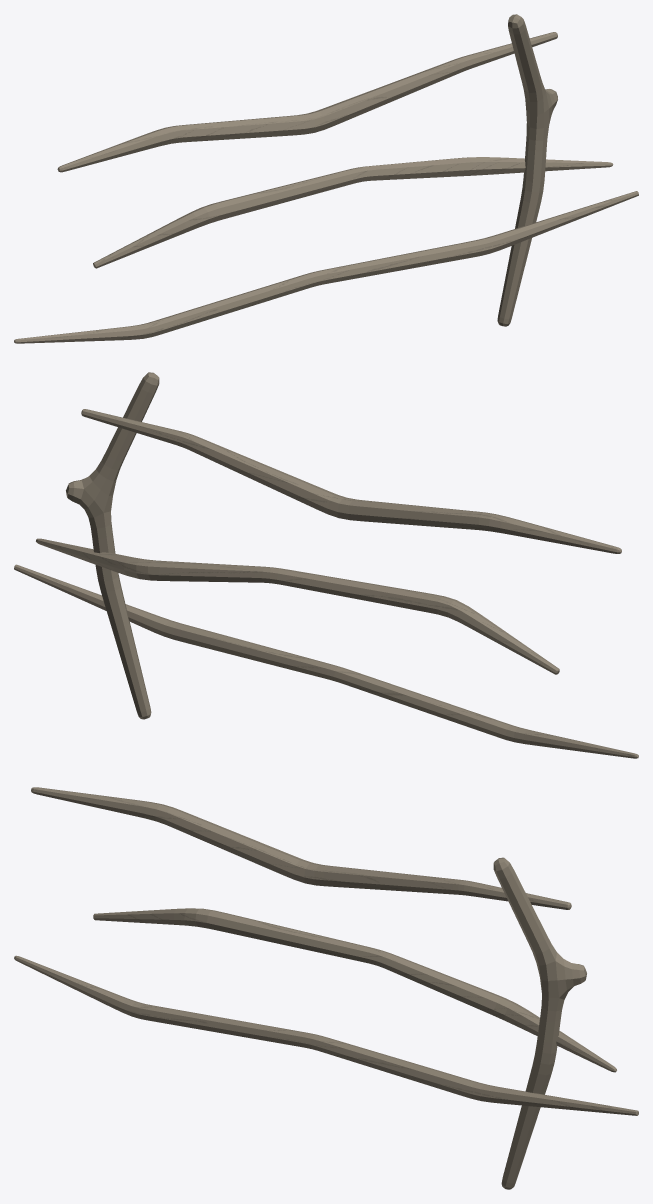
The model's file is valla parcial 4.fbx.
3 renders of one model, top to bottom at view 1: azimuth 30°, elevation 25°; view 2: azimuth 150°, elevation 25°; view 3: azimuth 330°, elevation 25°, orthographic. The views are drawn at different scales.
Parts seen in each view (by area): view 1: Vert.005; view 2: Vert.005; view 3: Vert.005.
Boxes of the visible parts, box(x1,y1,x2,y2) form: Vert.005: box(14, 14, 638, 343); Vert.005: box(14, 372, 638, 758); Vert.005: box(14, 787, 638, 1189).
Size of the model in its own units: 936 by 469 by 85.65.
